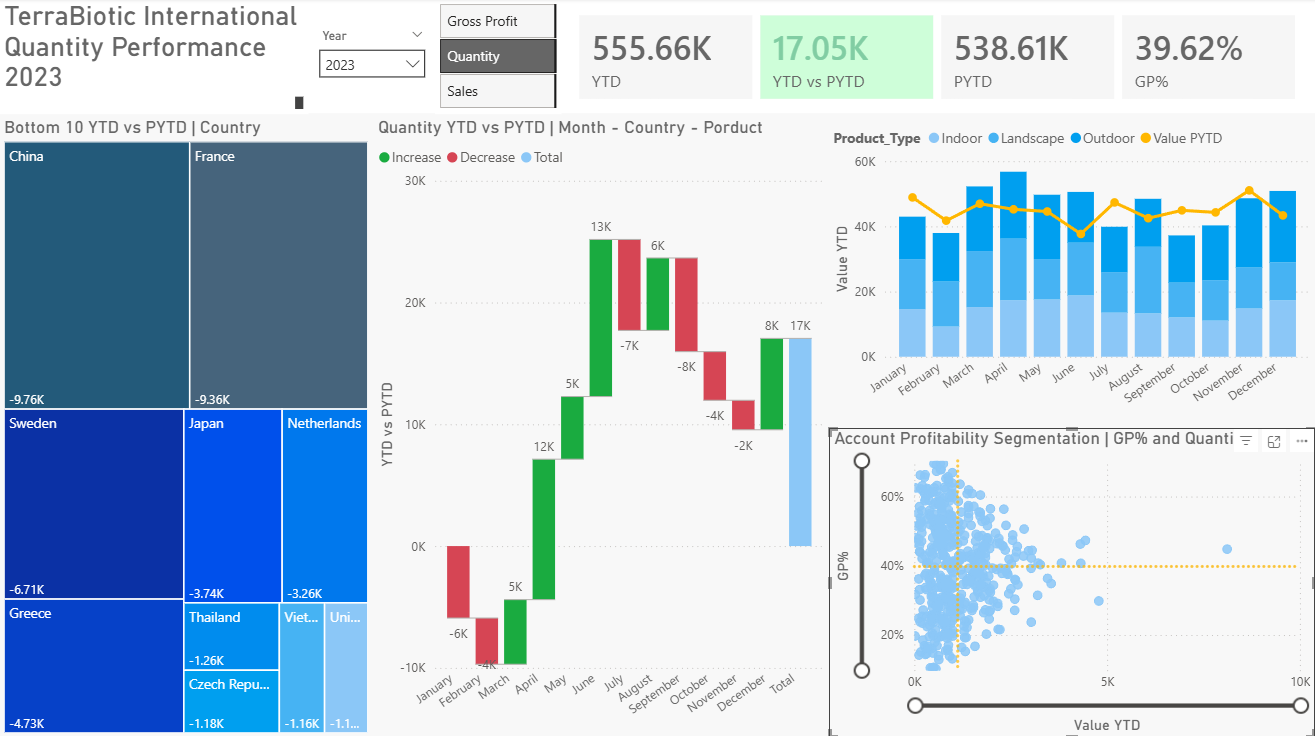

The dashboard page shown, as its layout file describes it:
{"tool":"powerbi","page":{"name":"Perfromance Report","canvas":[1280,720],"ordinal":0},"visuals":[{"type":"advancedSlicerVisual","fields":{"Values":["SLC_Values.Values"]},"box":[424.4,1.1,123.3,112.2],"z":0},{"type":"slicer","fields":{"Values":["Dim_Date.Date.Variation.Date Hierarchy.Year"]},"box":[301.1,25.6,123.3,64.4],"z":1000},{"type":"cardVisual","fields":{"Data":["_Measures.S_YTD","_Measures.YTD vs PYTD","_Measures.S_PYTD","_Measures.GP%"]},"box":[547.8,0,732.2,115.6],"z":2000},{"type":"treemap","title":"Bottom 10 YTD vs PYTD |  Country","fields":{"Group":["Dim_Account.country"],"Values":["_Measures.YTD vs PYTD"]},"box":[0,115.7,363.8,604],"z":3000},{"type":"waterfallChart","fields":{"Y":["_Measures.YTD vs PYTD"],"Category":["Dim_Date.Date.Variation.Date Hierarchy.Month","Dim_Account.country","Dim_Product.Produt_Type","Dim_Product.Product_Name"]},"box":[363.5,115.9,442.9,604.1],"z":4000},{"type":"lineStackedColumnComboChart","fields":{"Y":["_Measures.S_YTD"],"Y2":["_Measures.S_PYTD"],"Category":["Dim_Date.Date.Variation.Date Hierarchy.Quarter","Dim_Date.Date.Variation.Date Hierarchy.Month"],"Series":["Dim_Product.Produt_Type"]},"box":[806.3,115.7,473.7,301.5],"z":5000},{"type":"scatterChart","fields":{"Y":["_Measures.GP%"],"X":["_Measures.S_YTD"],"Category":["Dim_Account.Account"]},"box":[807,418,473,302],"z":6000},{"type":"textbox","box":[0,1.1,301.1,112.2],"z":7000}]}

Visuals, with their boxes in screenshot pixels (x1, y1, x2, y2), scaled from the page's 1280x720 canvas onto the 1315x736 screenshot:
advancedSlicerVisual - SLC_Values.Values: detection(436, 1, 563, 116)
slicer - Dim_Date.Date.Variation.Date Hierarchy.Year: detection(309, 26, 436, 92)
cardVisual - _Measures.S_YTD x _Measures.YTD vs PYTD: detection(563, 0, 1314, 118)
"Bottom 10 YTD vs PYTD |  Country" treemap: detection(0, 118, 374, 735)
waterfallChart - _Measures.YTD vs PYTD x Dim_Date.Date.Variation.Date Hierarchy.Month: detection(373, 118, 828, 735)
lineStackedColumnComboChart - _Measures.S_YTD x _Measures.S_PYTD: detection(828, 118, 1314, 426)
scatterChart - _Measures.GP% x _Measures.S_YTD: detection(829, 427, 1314, 735)
textbox: detection(0, 1, 309, 116)
